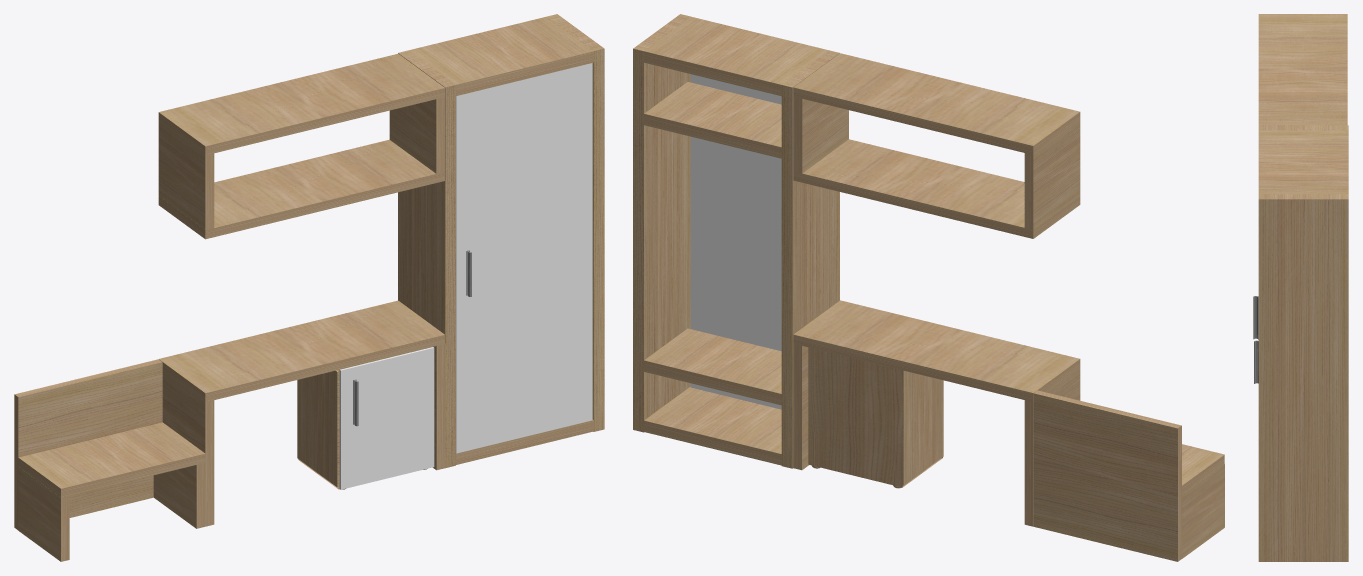
File: closet.FBX
The picture shows the model from 3 angles, left to right: view 1: azimuth 30°, elevation 25°; view 2: azimuth 150°, elevation 25°; view 3: azimuth 270°, elevation 25°; orthographic projection. The views are drawn at different scales.
Parts seen in each view (by area): view 1: closet; view 2: closet; view 3: closet.
Part boxes in pixels (x1,y1,x2,y2): closet: (14, 14, 604, 561); closet: (633, 14, 1224, 561); closet: (1253, 14, 1348, 561).
Size of the model in its own units: 197 by 31.46 by 132.
Materials: 3 (1 with a texture image).
